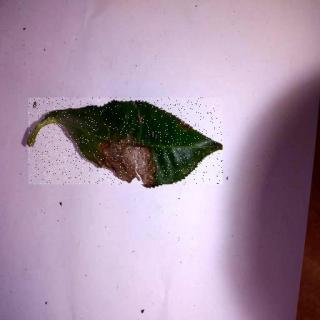Anthracnose: (29, 99, 224, 186)
